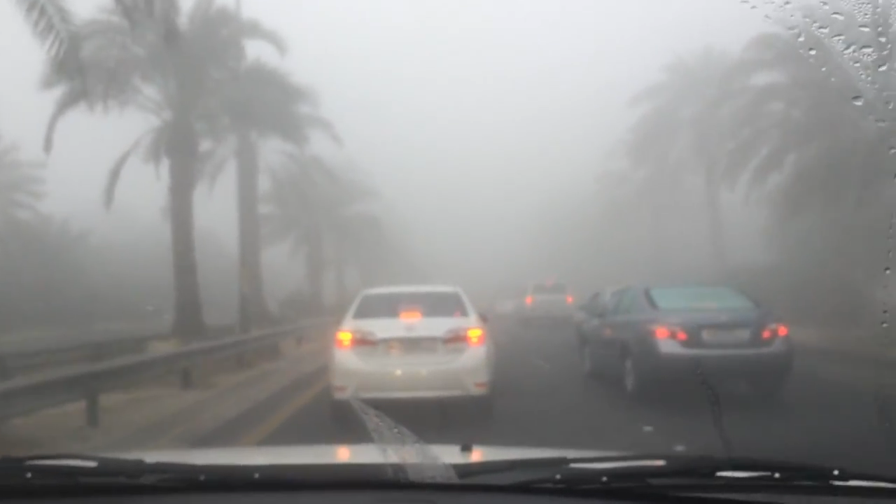car: (577, 282, 793, 398), (326, 284, 495, 421), (571, 283, 649, 343), (520, 277, 574, 321)
